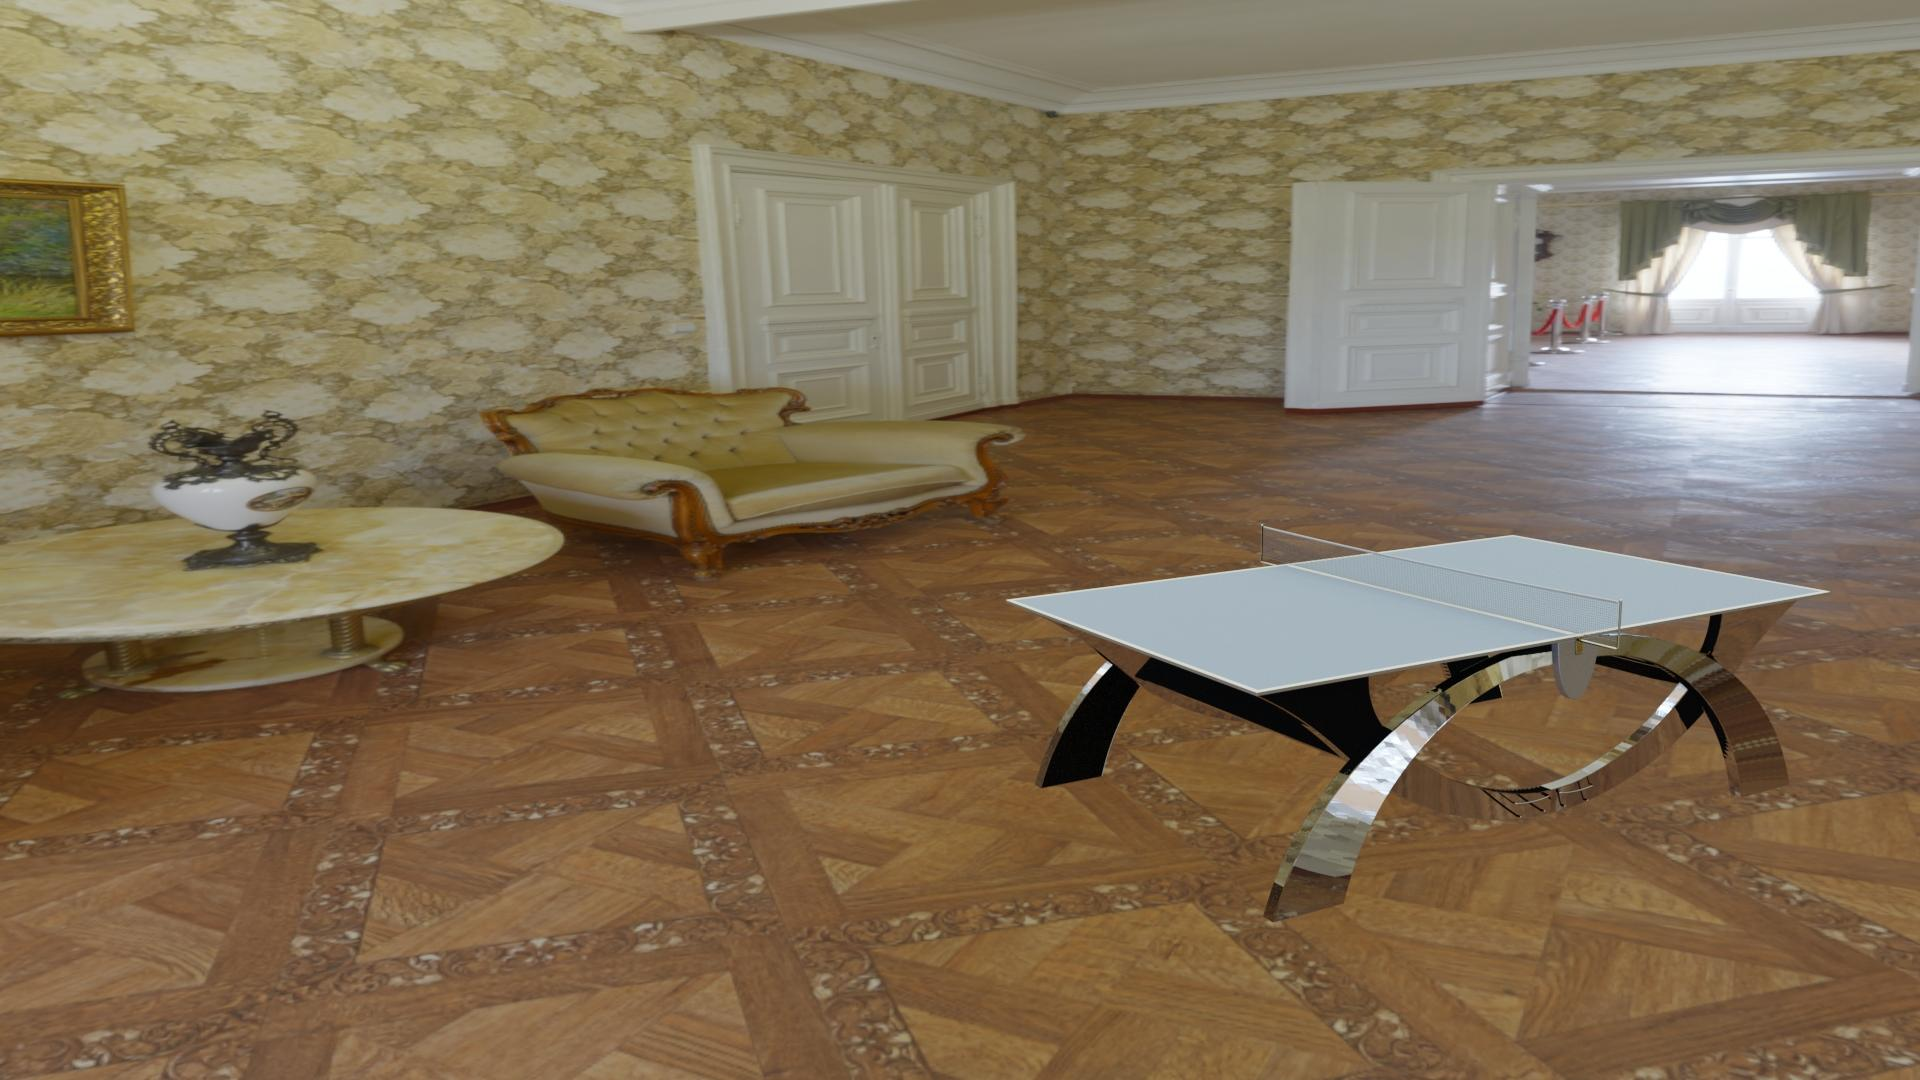table: (1013, 537, 1822, 690)
